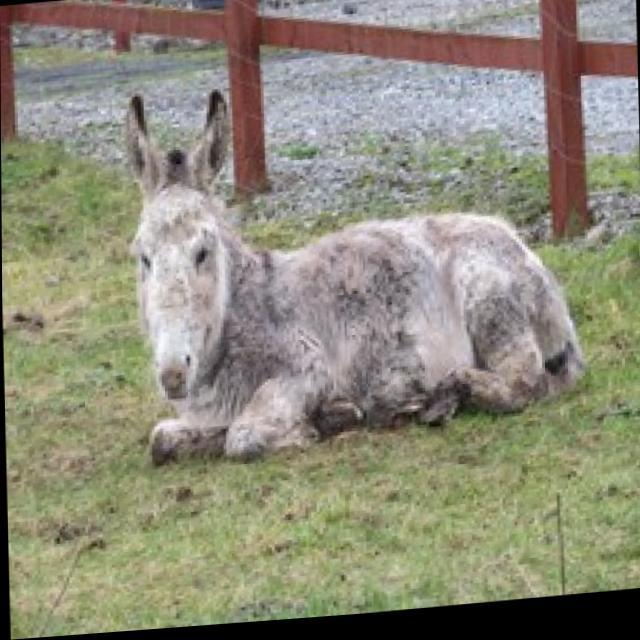Donkey: (72, 48, 608, 488)
